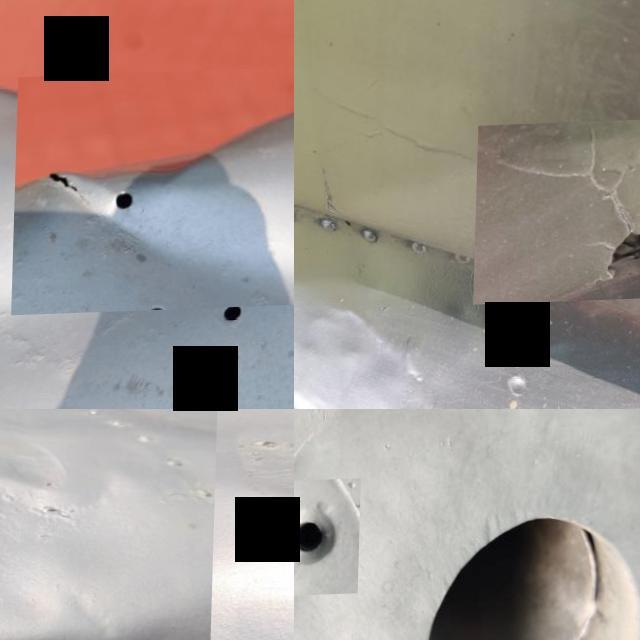Crack: (475, 122, 640, 307)
Dent: (13, 66, 294, 315), (0, 409, 218, 640)
Missing_Fastener: (294, 480, 362, 598)
